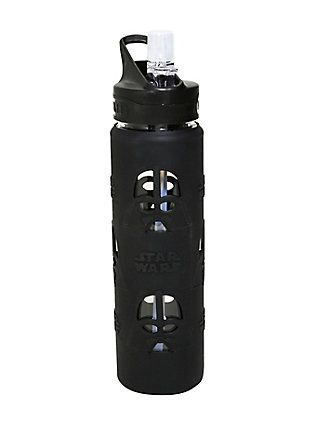bottle: (101, 21, 218, 404)
